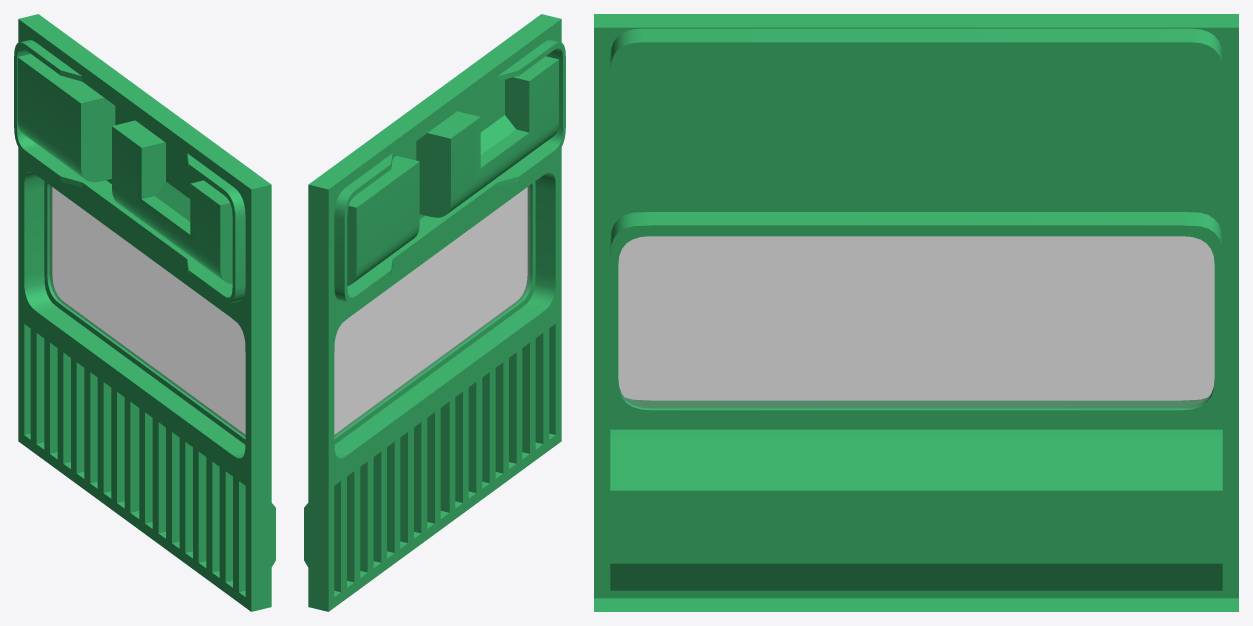
File: Wall_B_4x4m_WinA.FBX
3 views of the same model, side by side, from view 1: azimuth 30°, elevation 25°; view 2: azimuth 150°, elevation 25°; view 3: azimuth 270°, elevation 25° (orthographic). The views are drawn at different scales.
Visible parts, largest first — view 1: Wall_B_4x4m_WinA; view 2: Wall_B_4x4m_WinA; view 3: Wall_B_4x4m_WinA.
Part boxes in pixels (x1,y1,x2,y2): Wall_B_4x4m_WinA: (14,14,275,611); Wall_B_4x4m_WinA: (304,14,565,611); Wall_B_4x4m_WinA: (594,14,1238,611).
Bounding box in the file's own units: 44.28 × 400 × 400.
